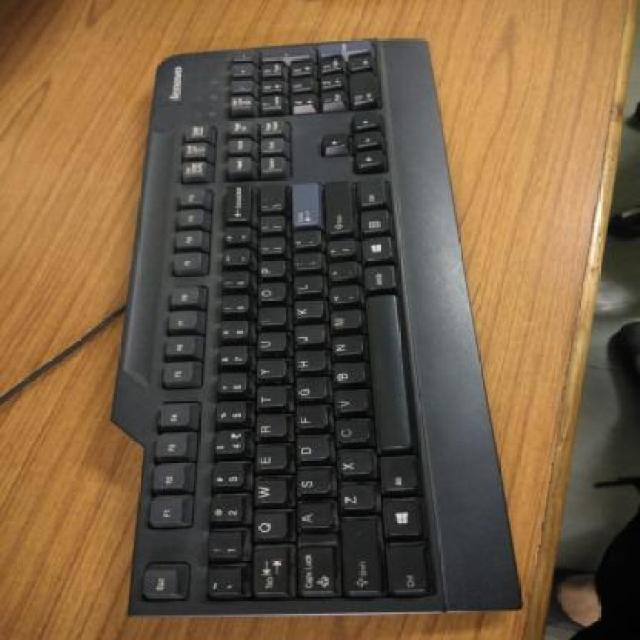keyboard: (122, 37, 524, 612)
